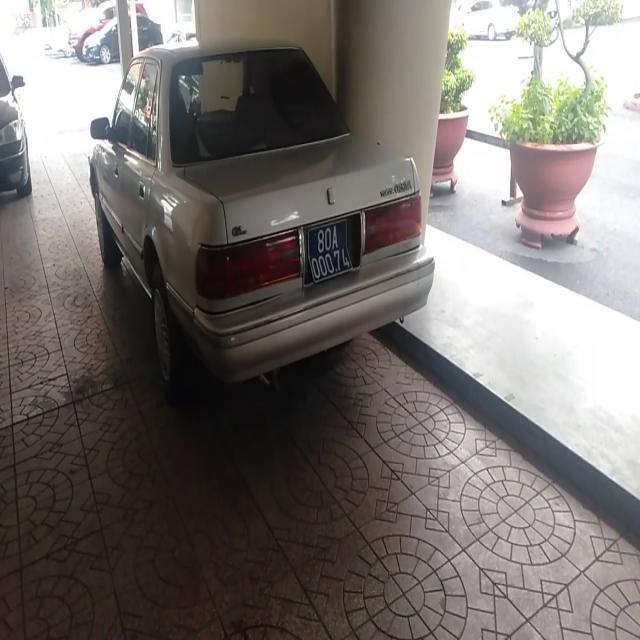bien_xanh: (303, 224, 353, 280)
